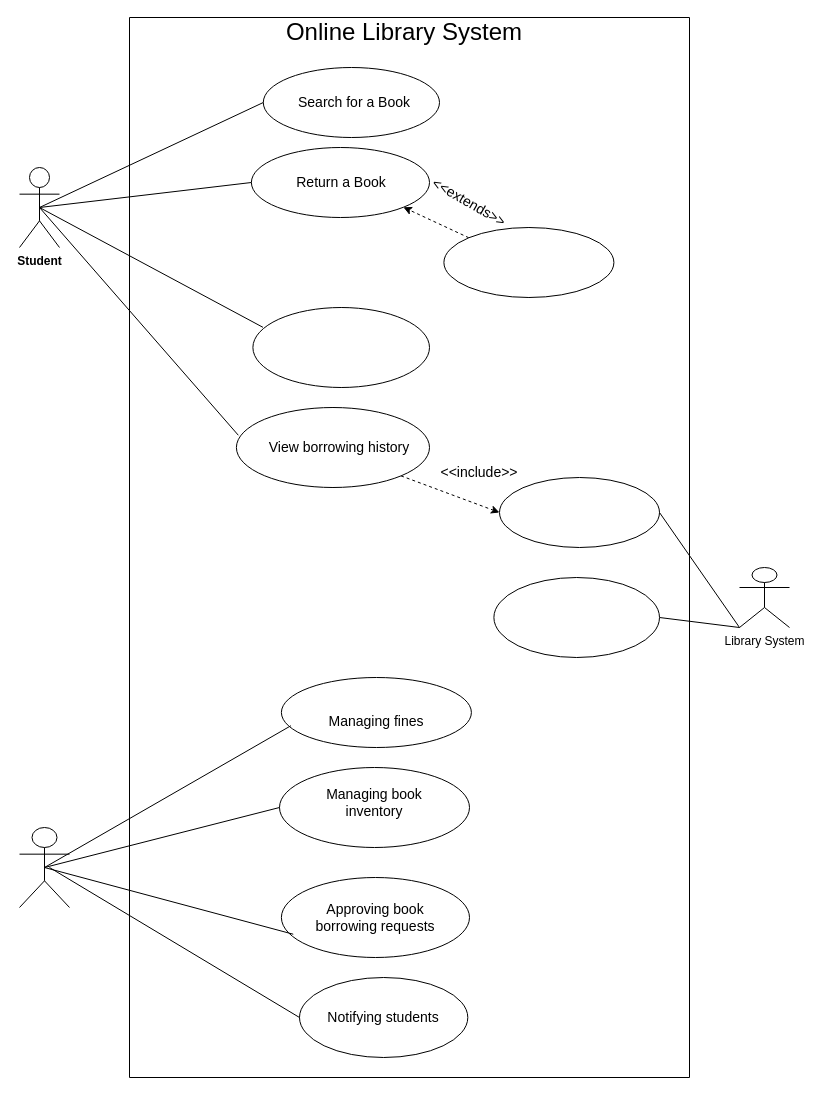
Image size: 822x1095. Some labels were removed from this diagram. The shapes that lost their labels are listed below. From the top down, each one's centre as x and y in pixels, then its label:
At point 528,262: "Pay Fine".
At point 341,347: "Reserve a Book".
At point 579,512: "student borrwing history".
At point 576,617: "Send automated massages".
At point 44,867: "Librarian".
